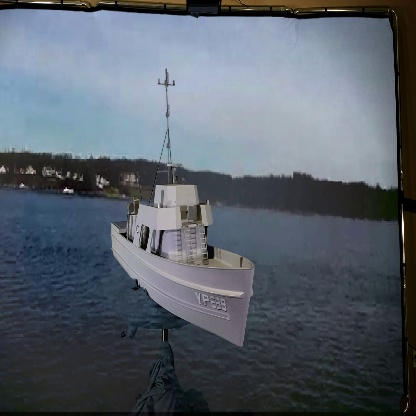YP689: (111, 68, 258, 348)
